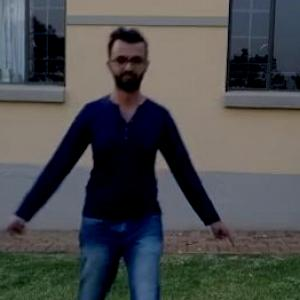land: (26, 57, 211, 299)
